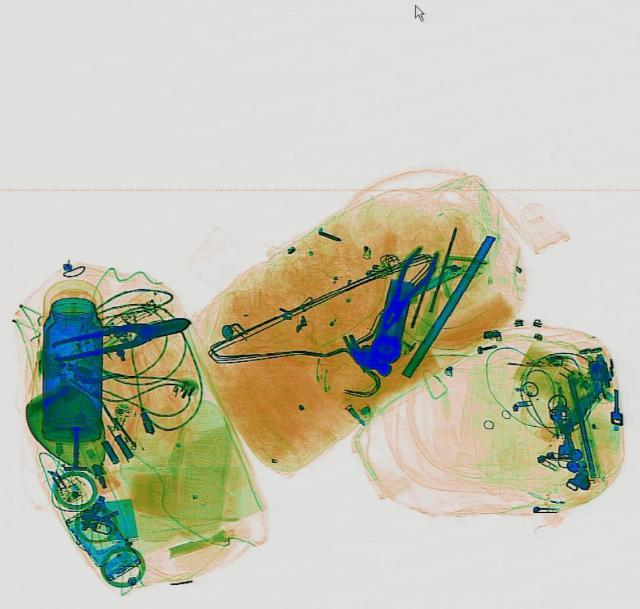Pliers: (45, 310, 191, 365), (366, 242, 442, 335)
